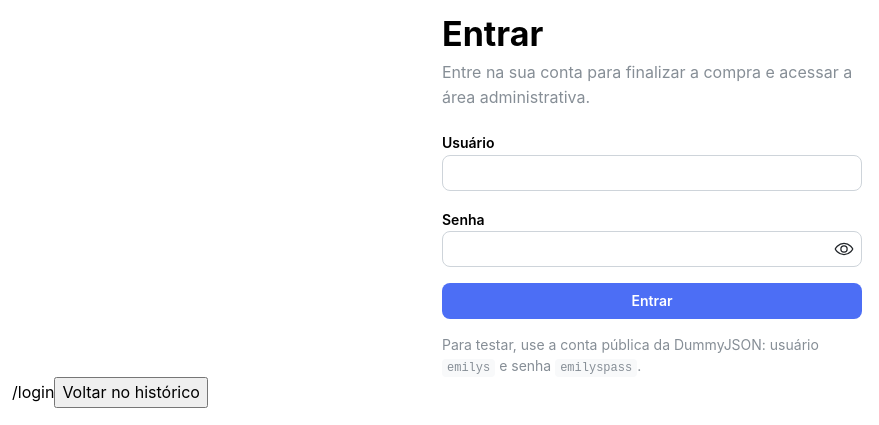
LoginPage › durante o envio, o botão fica ocupado
Type "emilys" into the field labelled "Usuário" at x=652, y=173, box [442,155,862,191]
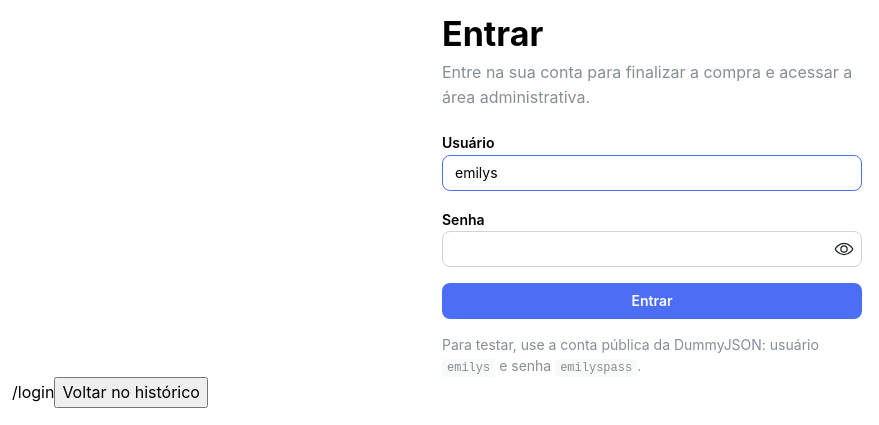
Type "emilyspass" into the password field labelled "Senha" at x=652, y=249, box [443,232,861,266]
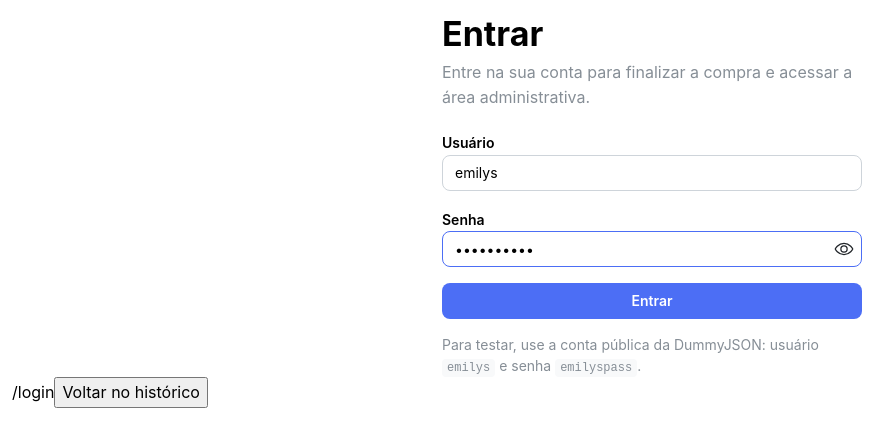
Click the button "Entrar" at x=652, y=301, box [442,283,862,319]
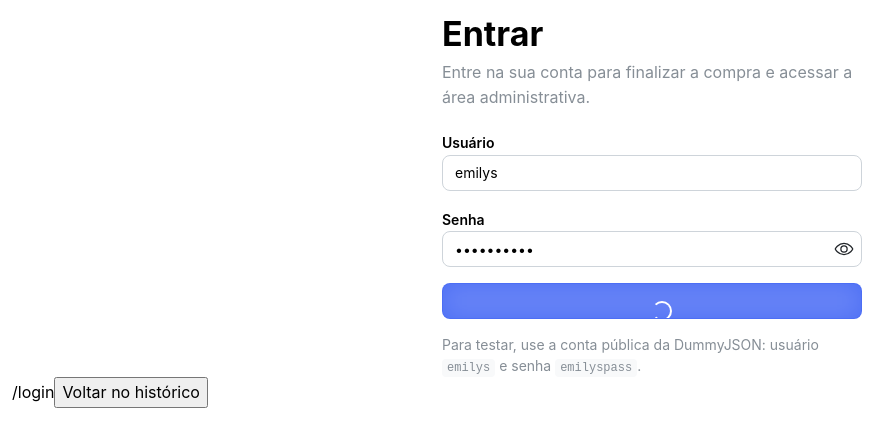
Check: the button named "Entrar" is disabled, box [442,283,862,319]
